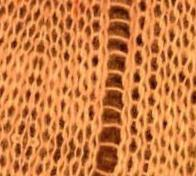slub: (93, 0, 133, 176)
